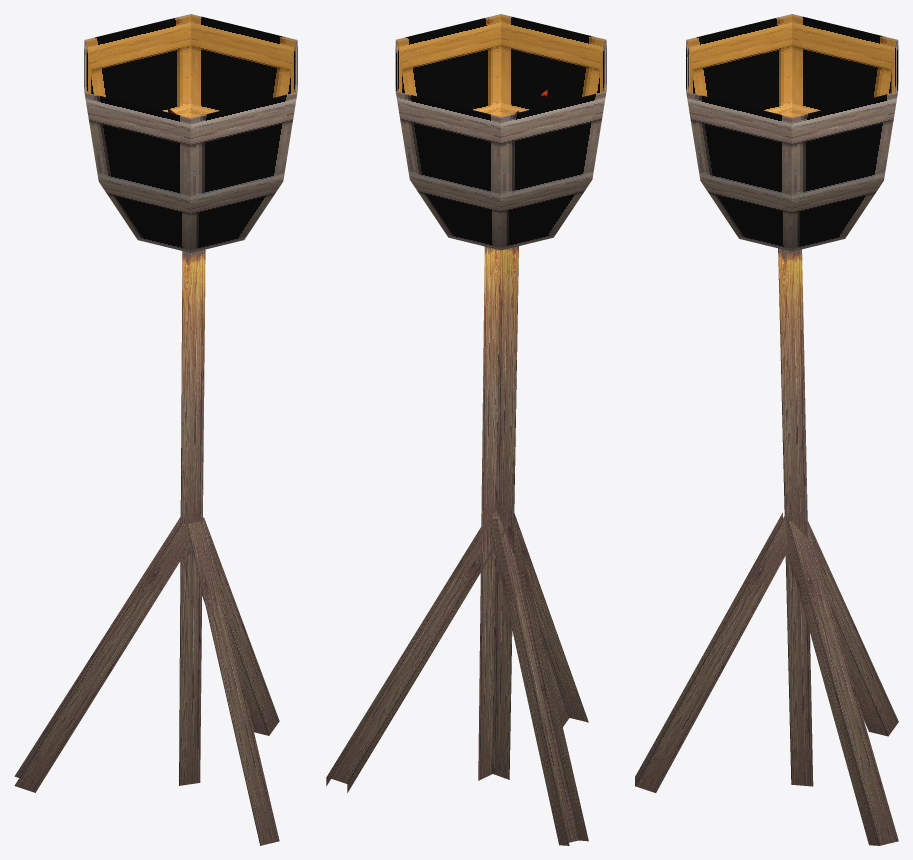
File: stage-maya-p11-77.glb
3 renders of one model, left to right at view 1: azimuth 30°, elevation 25°; view 2: azimuth 150°, elevation 25°; view 3: azimuth 270°, elevation 25°, orthographic.
Bounding box in the file's own units: 1.22 × 3.19 × 1.05.
4 materials, 4 textured.
